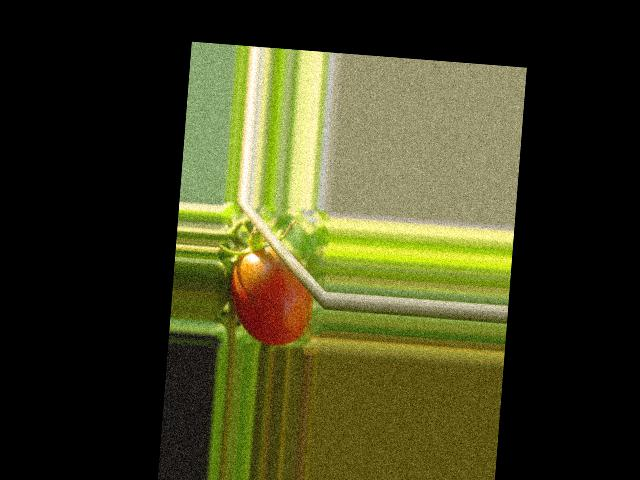tomato: (227, 244, 315, 347)
